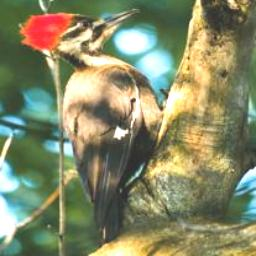Woodpecker: (20, 5, 179, 245)
